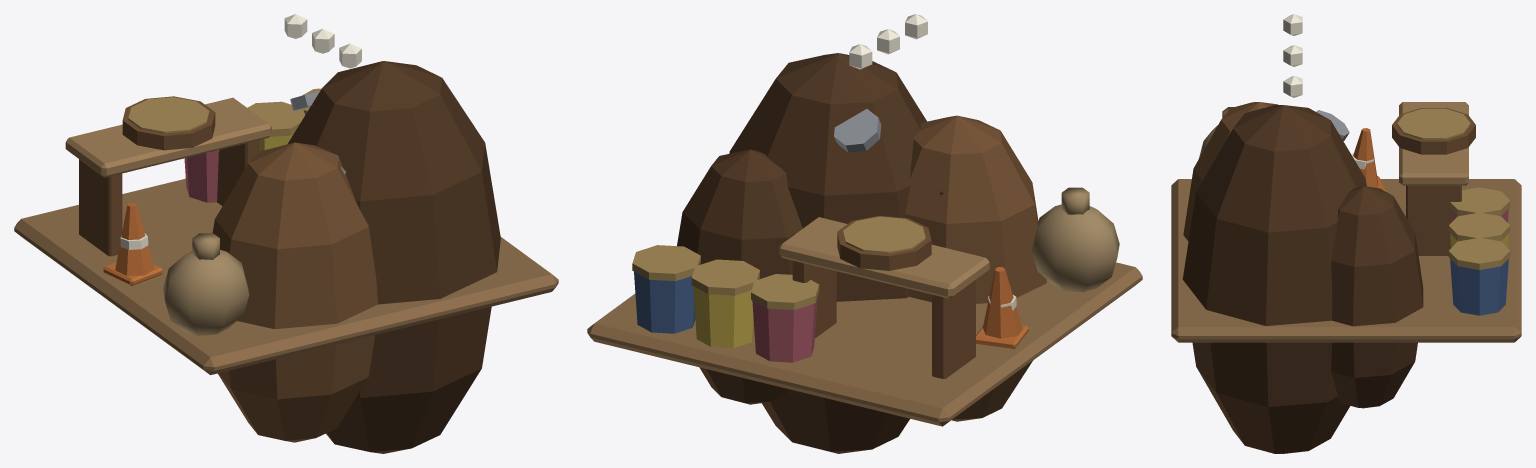
Rendered from midden_sorter.fbx.
3 renders of one model, left to right at view 1: azimuth 30°, elevation 25°; view 2: azimuth 150°, elevation 25°; view 3: azimuth 270°, elevation 25°, orthographic. The views are drawn at different scales.
Parts seen in each view (by area): view 1: Building; view 2: Building; view 3: Building.
Part boxes in pixels (box(x1,y1,x2,y2)): Building: box(14, 14, 558, 453); Building: box(587, 14, 1142, 453); Building: box(1171, 14, 1521, 453).
Bounding box in the file's own units: 1.06 × 1 × 1.28.
